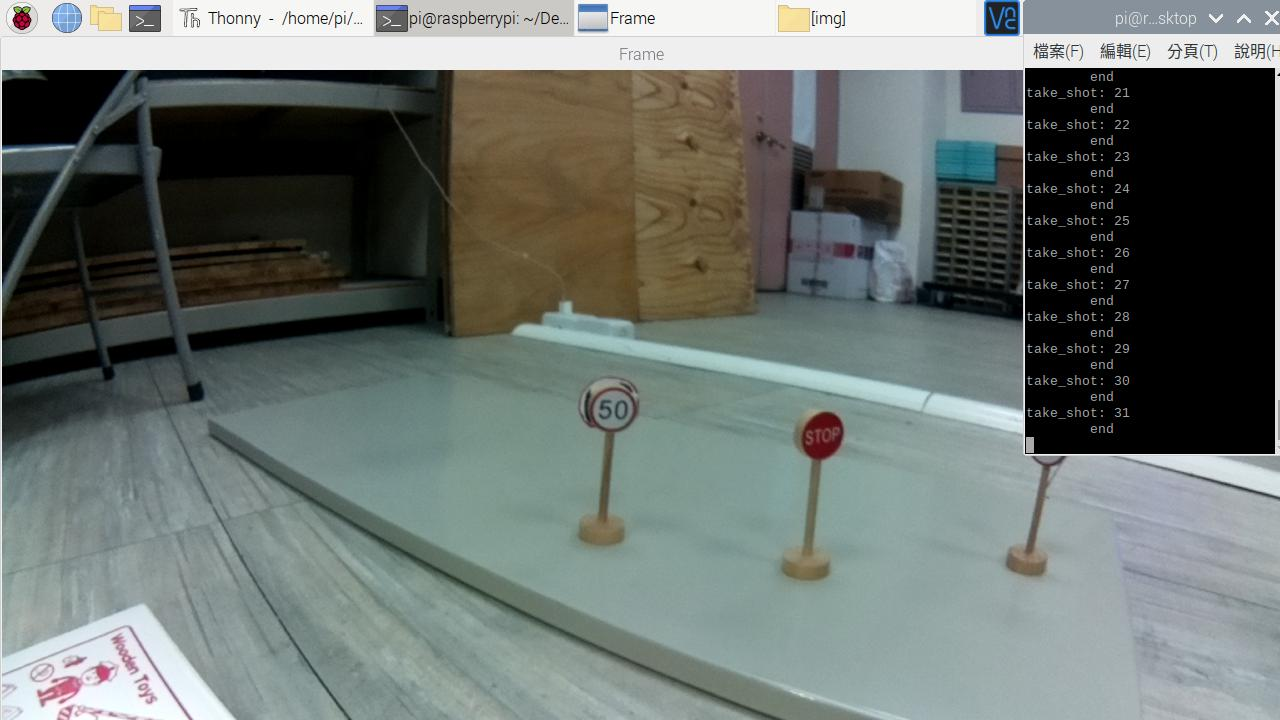Speed50: (589, 383, 638, 426)
Stop: (792, 409, 848, 457)
